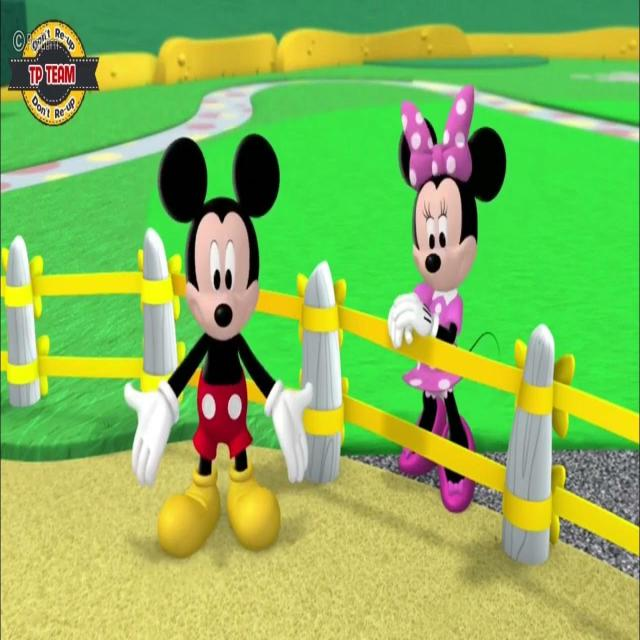mickey: (149, 136, 307, 559)
